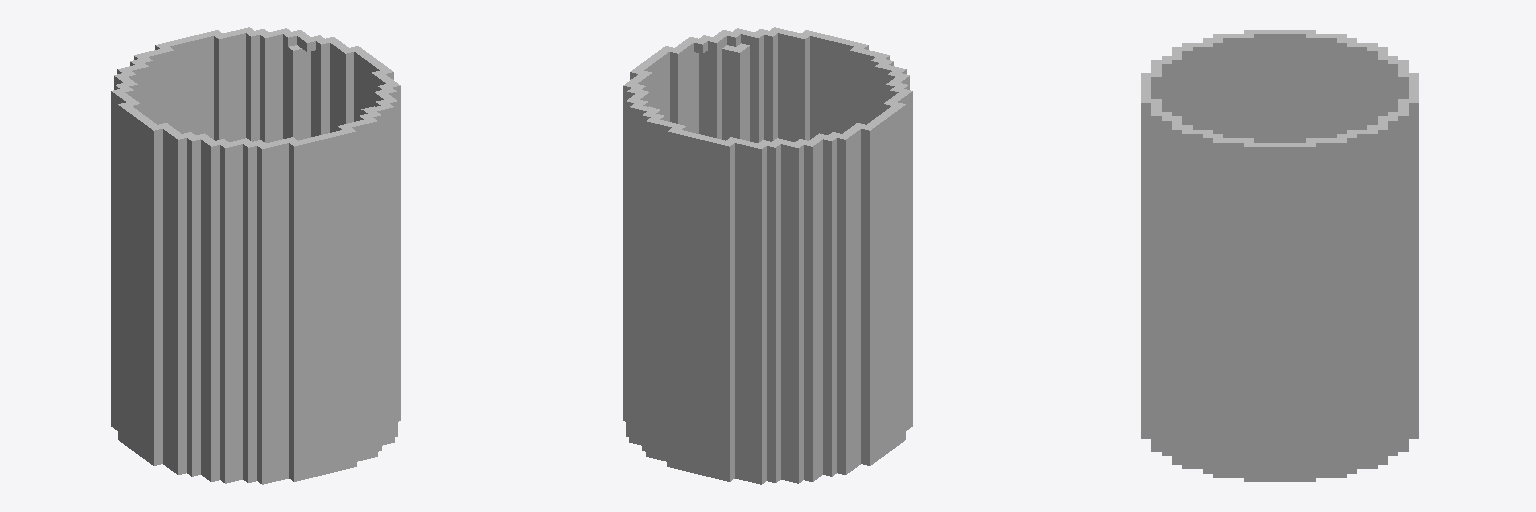
The model's file is KitchenOPEN_Export-34.obj.
The picture shows the model from 3 angles: view 1: azimuth 30°, elevation 25°; view 2: azimuth 150°, elevation 25°; view 3: azimuth 270°, elevation 25°; orthographic projection.
Visible parts, largest first — view 1: KitchenOPEN_Export-34; view 2: KitchenOPEN_Export-34; view 3: KitchenOPEN_Export-34.
Boxes of the visible parts, <box> form: KitchenOPEN_Export-34: <box>111,27,400,484</box>; KitchenOPEN_Export-34: <box>623,27,912,484</box>; KitchenOPEN_Export-34: <box>1141,30,1418,481</box>.
Bounding box in the file's own units: 27 × 36 × 27.